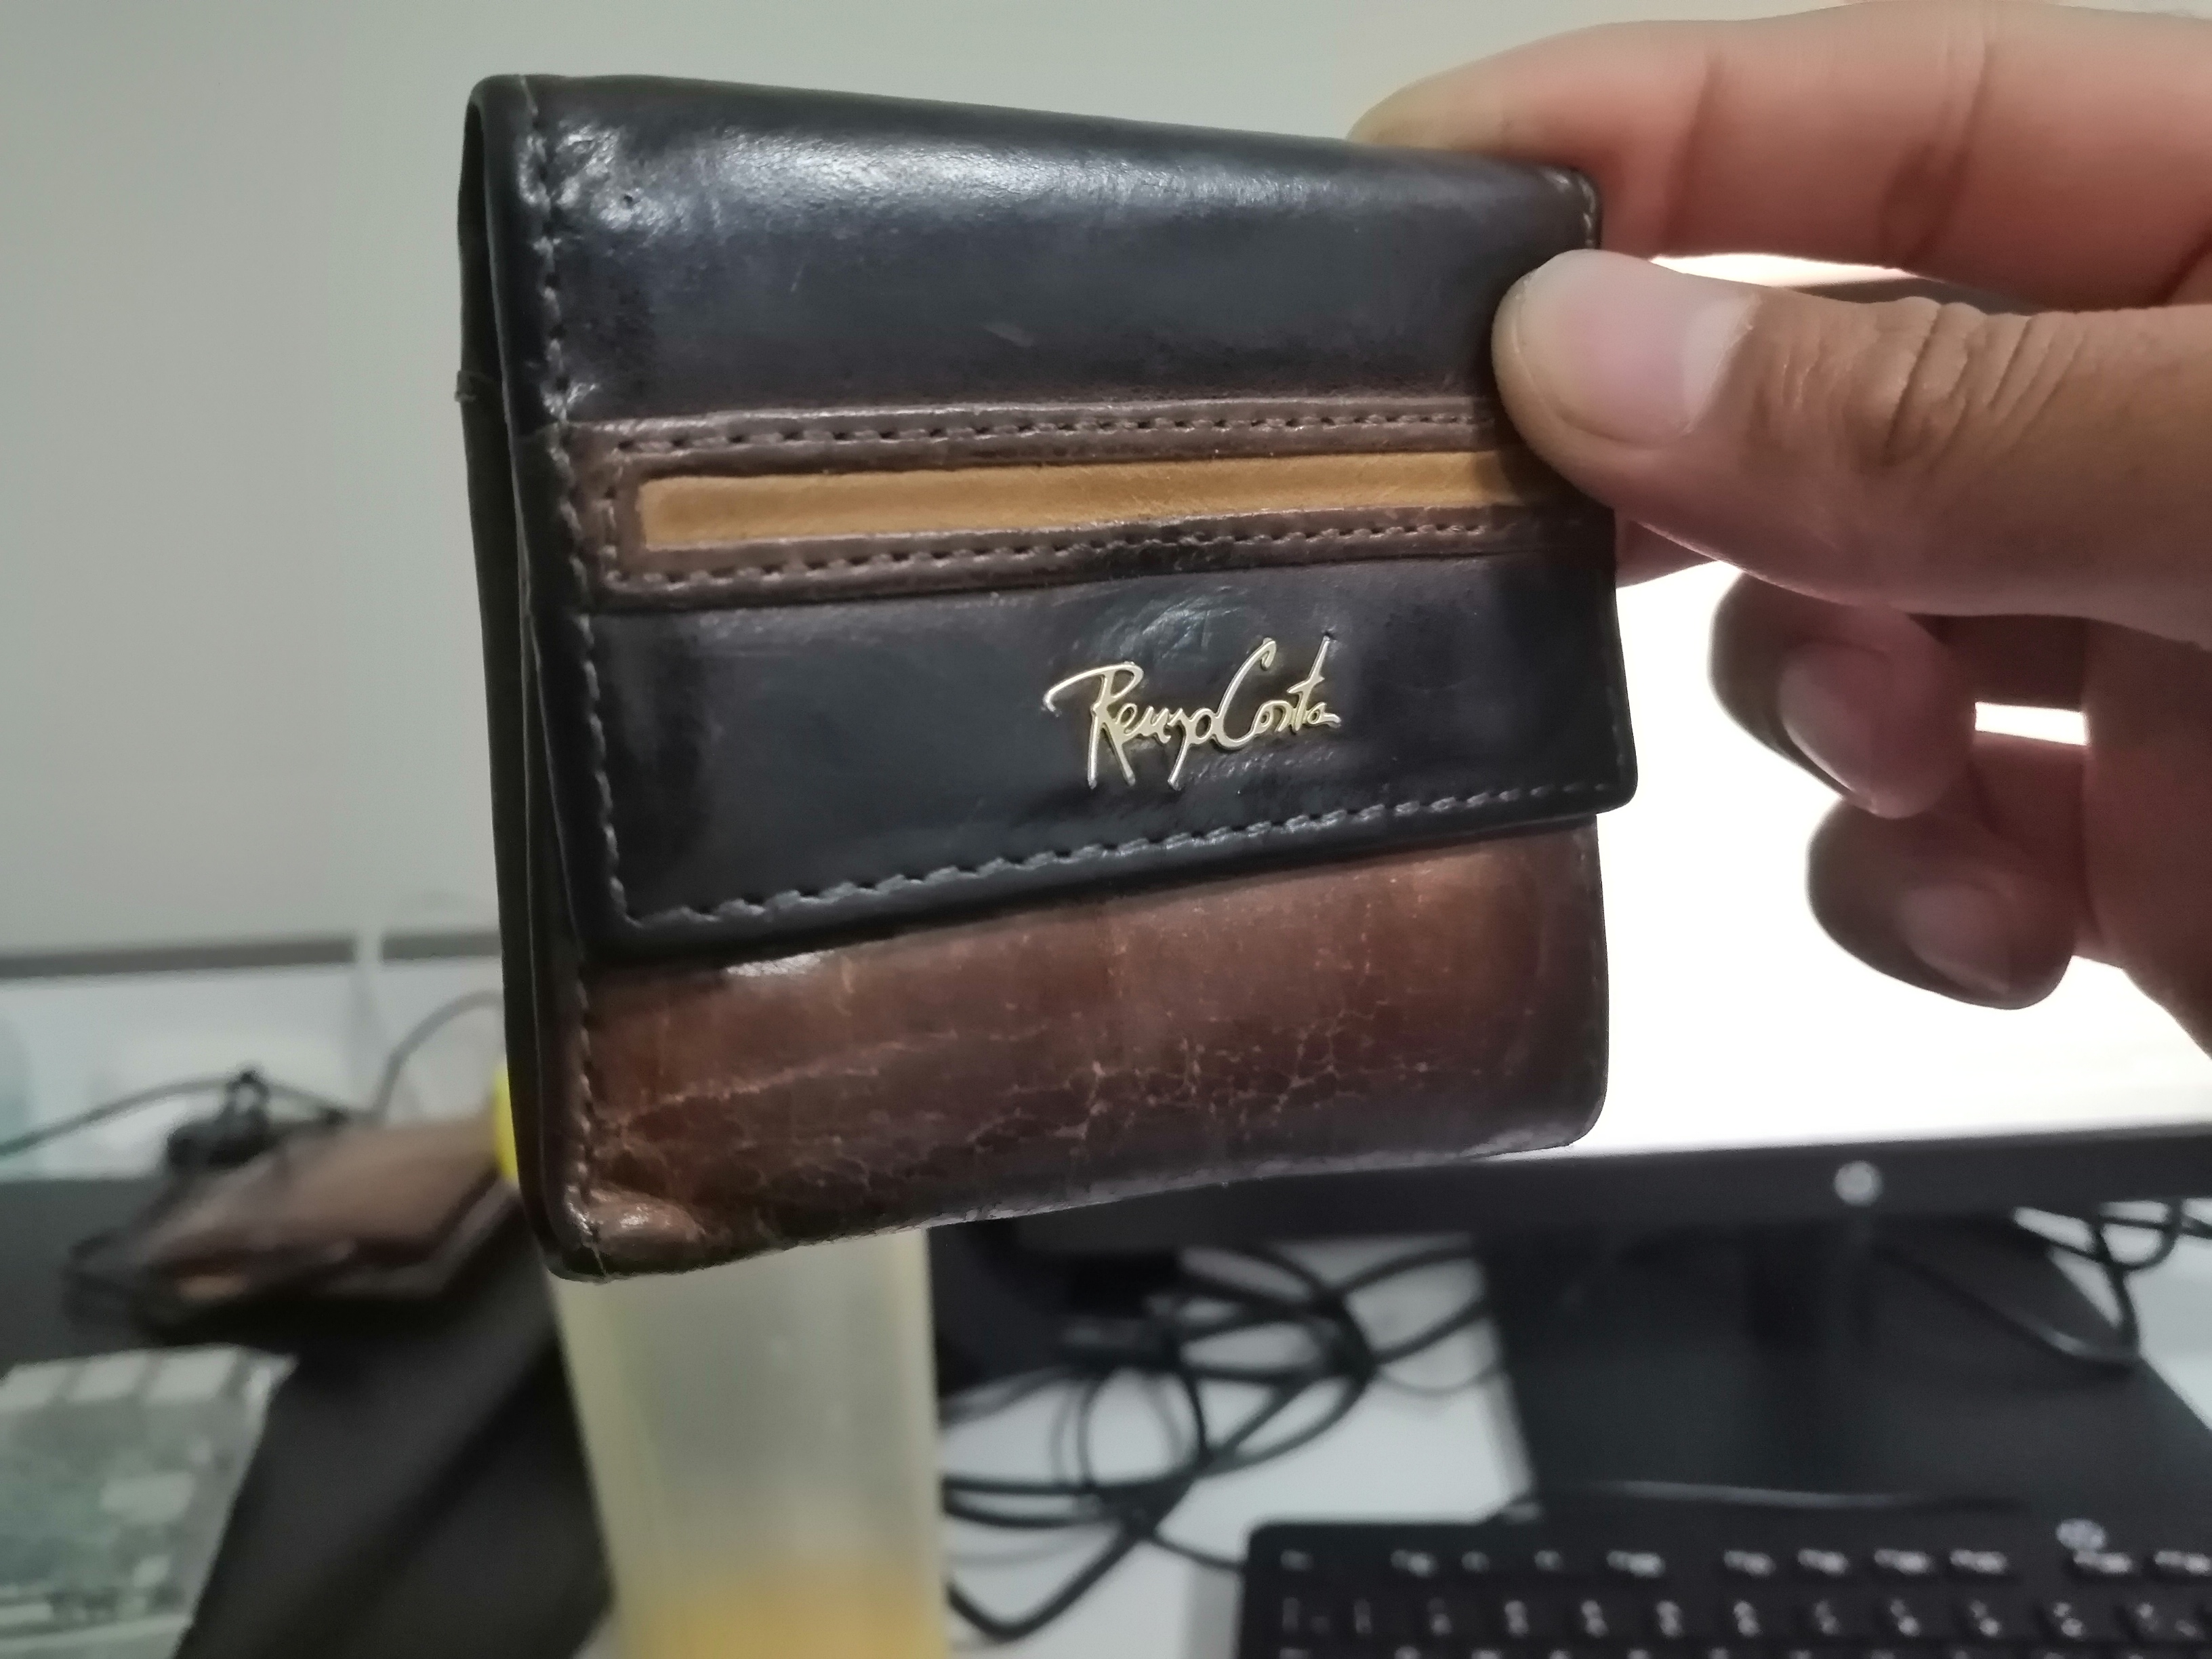monedero: (430, 51, 1703, 1291)
